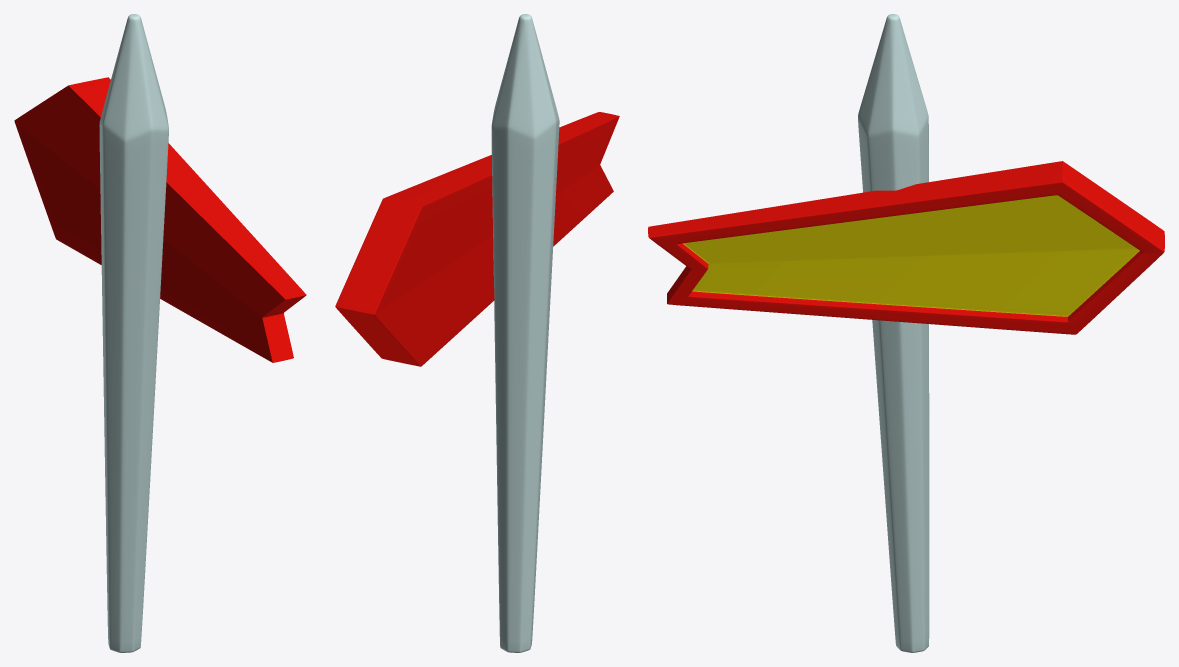
File: pointer.fbx
3 views of the same model, side by side, from view 1: azimuth 30°, elevation 25°; view 2: azimuth 150°, elevation 25°; view 3: azimuth 270°, elevation 25° (orthographic). The views are drawn at different scales.
Parts seen in each view (by area): view 1: Cylinder, Cube; view 2: Cylinder, Cube; view 3: Cube, Cylinder.
Boxes of the visible parts, x1,y1,x2,y2 form: Cylinder: (99,14,168,652); Cube: (14,77,306,362); Cylinder: (491,14,559,652); Cube: (335,112,619,366); Cube: (648,161,1164,334); Cylinder: (858,14,929,652).
Size of the model in its own units: 57.26 by 383 by 284.
